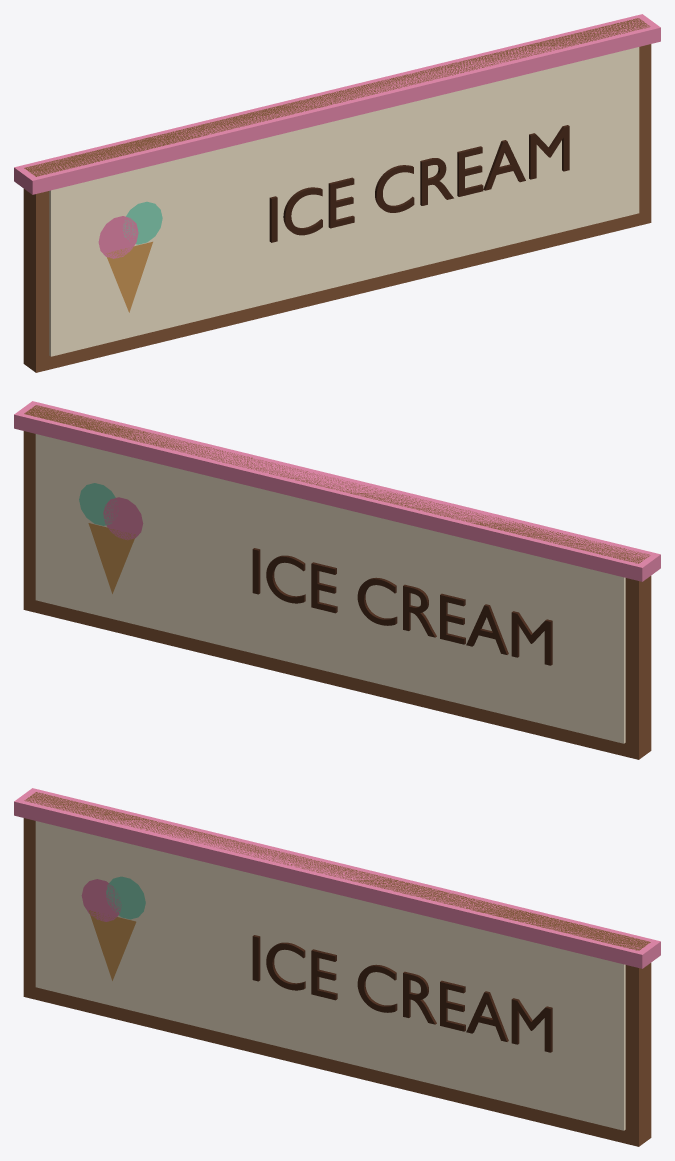
File: kiosk-sign-icecream.glb
3 views of the same model, one above another, from view 1: azimuth 30°, elevation 25°; view 2: azimuth 150°, elevation 25°; view 3: azimuth 330°, elevation 25° (orthographic).
Visible parts, largest first — view 1: kiosk-sign-icecream; view 2: kiosk-sign-icecream; view 3: kiosk-sign-icecream.
Boxes of the visible parts, left/top/right/bottom form: kiosk-sign-icecream: left=14, top=14, right=660, bottom=372; kiosk-sign-icecream: left=14, top=401, right=660, bottom=759; kiosk-sign-icecream: left=14, top=788, right=660, bottom=1146.
Size of the model in its own units: 4.7 by 1.4 by 0.246.
